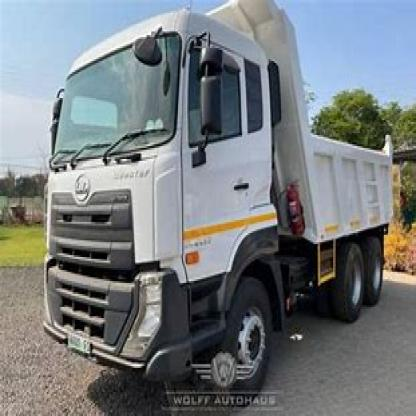dump_truck: (51, 0, 397, 398)
